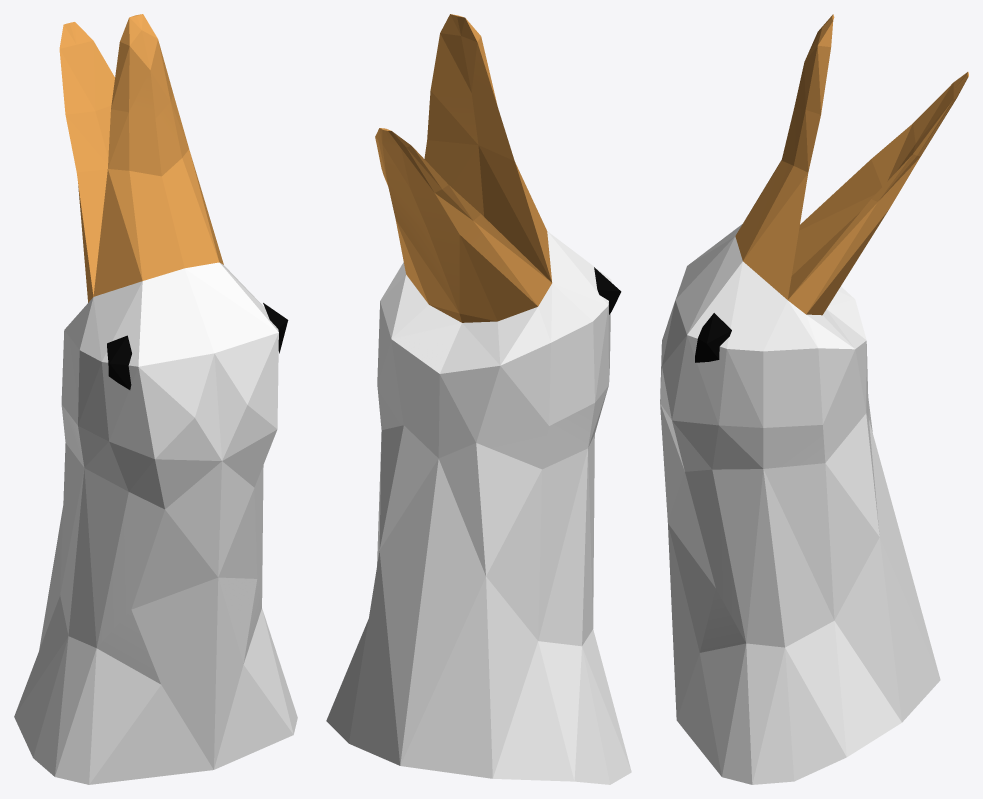
File: AlbatrossHead.obj
The picture shows the model from 3 angles, left to right: view 1: azimuth 30°, elevation 25°; view 2: azimuth 150°, elevation 25°; view 3: azimuth 270°, elevation 25°; orthographic projection. The views are drawn at different scales.
Visible parts, largest first — view 1: AlbatrossHead_0; view 2: AlbatrossHead_0; view 3: AlbatrossHead_0.
Part boxes in pixels (x1,y1,x2,y2): AlbatrossHead_0: (14,14,297,784); AlbatrossHead_0: (326,14,631,784); AlbatrossHead_0: (660,14,968,784).
Size of the model in its own units: 0.1549 by 0.4256 by 0.1679.
1 material, 1 textured.
